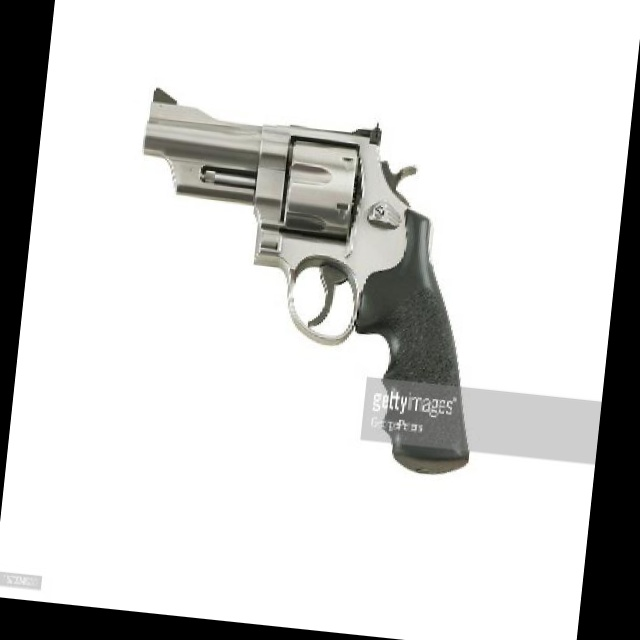gun: (90, 73, 516, 476)
